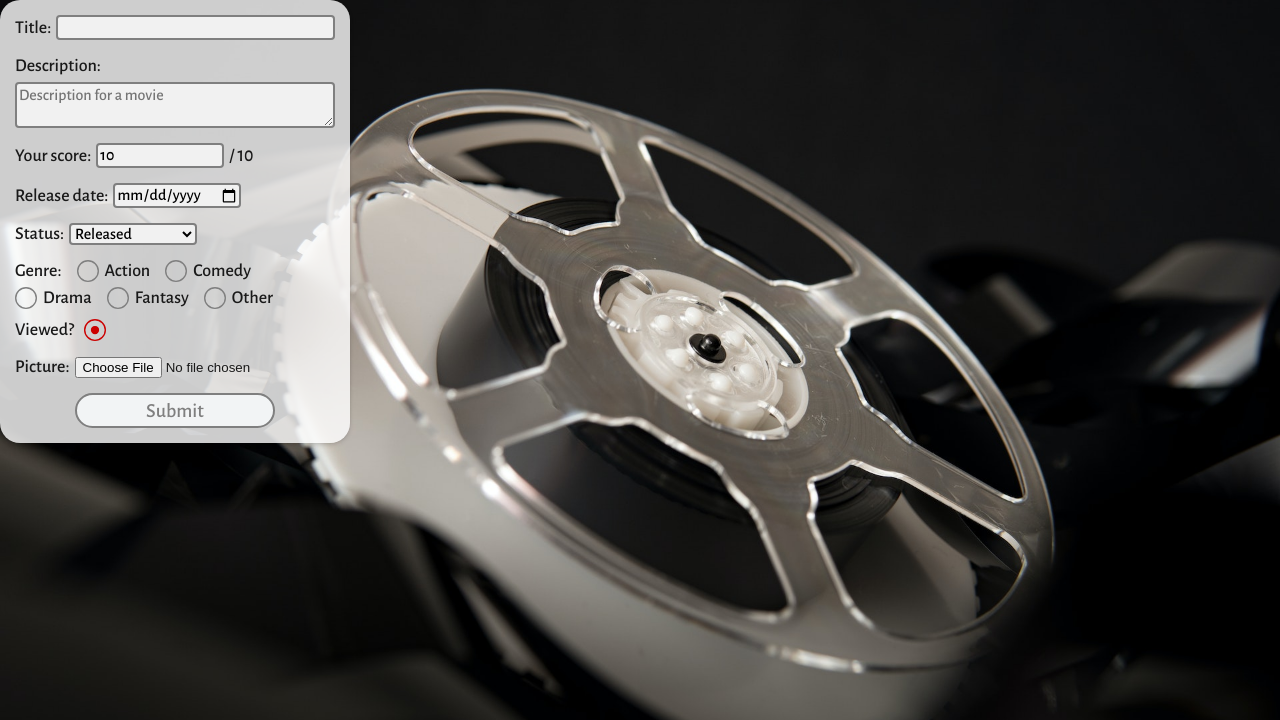
Test case: Form › submit should be disabled and enable after typing something in the Name field
Expected: the button is disabled, x1=75 y1=393 x2=275 y2=428
Type "New Movie" into the field at (196, 28), box x1=56 y1=15 x2=335 y2=40
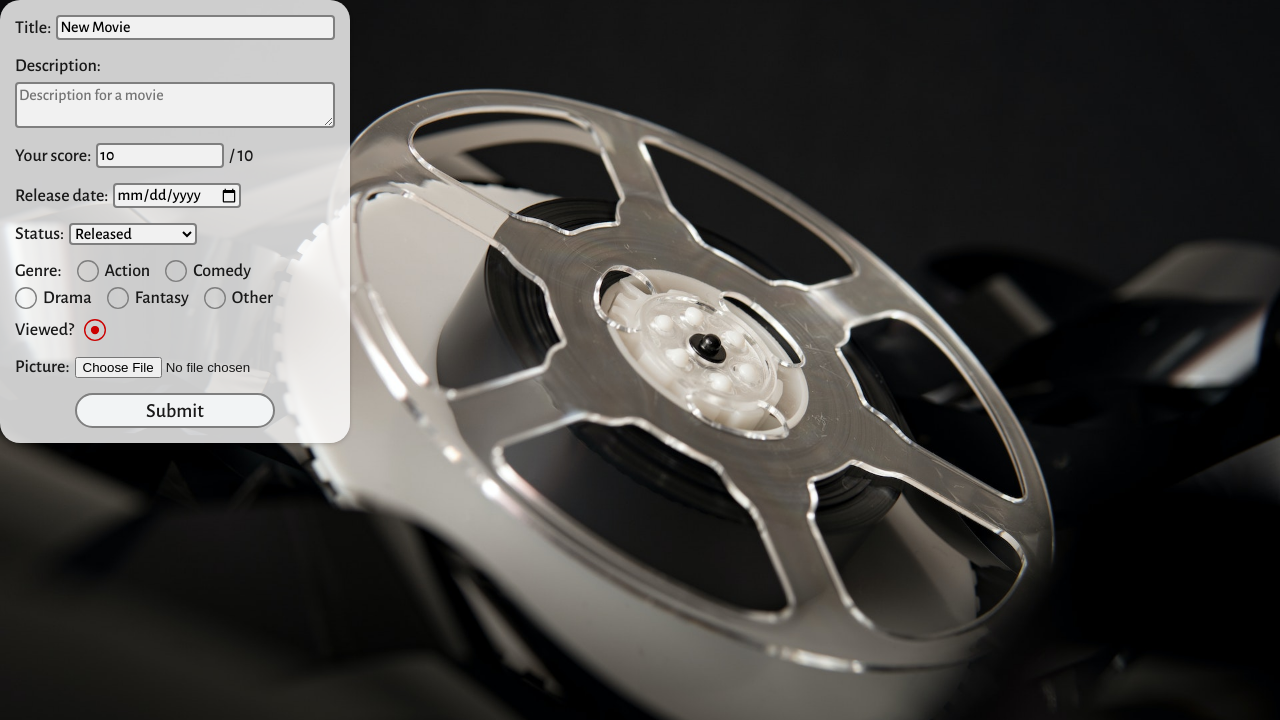
Expected: the button is enabled, x1=75 y1=393 x2=275 y2=428
